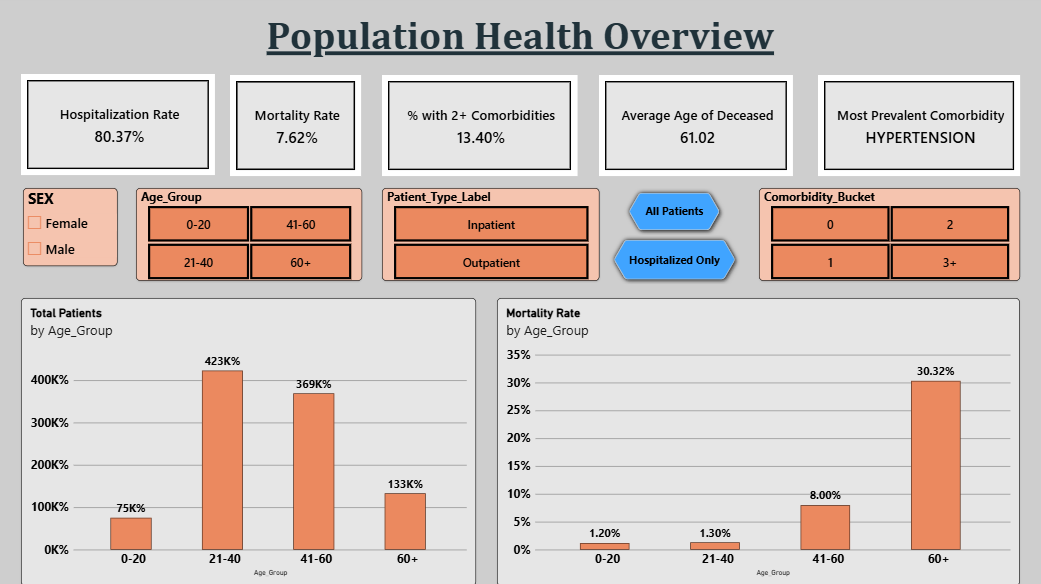

The dashboard page shown, as its layout file describes it:
{"tool":"powerbi","page":{"name":"Population Health Overview","canvas":[1920,1080],"ordinal":0},"visuals":[{"type":"textbox","box":[403.3,23.3,1114.2,85.5],"z":0},{"type":"cardVisual","fields":{"Data":["Measures (2).Hospitalization_Rate_Pct"]},"box":[46.7,136.7,355,185],"z":1000},{"type":"cardVisual","fields":{"Data":["Measures (2).Mortality Rate"]},"box":[429.2,139.2,240,185],"z":2000},{"type":"cardVisual","fields":{"Data":["Measures (2).Patients with 2+ Comorbidities"]},"box":[706.7,139.2,357.5,185],"z":3000},{"type":"cardVisual","fields":{"Data":["Measures (2).Average Age of Deceased"]},"box":[1104.2,139.2,355,185],"z":4000},{"type":"cardVisual","fields":{"Data":["Comorbidity_Long.Most Prevalent Comorbidity"]},"box":[1504.2,139.2,370,185],"z":5000},{"type":"clusteredColumnChart","fields":{"Category":["Covid_Patients.Age_Group"],"Y":["Measures (2).Total Patients"]},"box":[46.7,546.7,833.3,526.7],"z":6000},{"type":"clusteredColumnChart","fields":{"Category":["Covid_Patients.Age_Group"],"Y":["Measures (2).Mortality Rate"]},"box":[916.7,546.7,956.7,526.7],"z":7000},{"type":"slicer","fields":{"Values":["Covid_Patients.SEX"]},"box":[50,346.7,173.3,143.3],"z":8000},{"type":"slicer","fields":{"Values":["Covid_Patients.Age_Group"]},"box":[256,346,414,170],"z":9000},{"type":"slicer","fields":{"Values":["Covid_Patients.Patient_Type_Label"]},"box":[706,346,398,170],"z":10000},{"type":"slicer","fields":{"Values":["Covid_Patients.Comorbidity_Bucket"]},"box":[1396,346,478,170],"z":11000},{"type":"actionButton","box":[1150,346,184,86],"z":12000},{"type":"actionButton","box":[1122,432,240,90],"z":13000}]}

Visuals, with their boxes in screenshot pixels (x1, y1, x2, y2), scaled from the page's 1920x1080 canvas onto the 1041x584 screenshot:
textbox: x1=219 y1=13 x2=823 y2=59
cardVisual - Measures (2).Hospitalization_Rate_Pct: x1=25 y1=74 x2=218 y2=174
cardVisual - Measures (2).Mortality Rate: x1=233 y1=75 x2=363 y2=175
cardVisual - Measures (2).Patients with 2+ Comorbidities: x1=383 y1=75 x2=577 y2=175
cardVisual - Measures (2).Average Age of Deceased: x1=599 y1=75 x2=791 y2=175
cardVisual - Comorbidity_Long.Most Prevalent Comorbidity: x1=816 y1=75 x2=1016 y2=175
clusteredColumnChart - Covid_Patients.Age_Group x Measures (2).Total Patients: x1=25 y1=296 x2=477 y2=580
clusteredColumnChart - Covid_Patients.Age_Group x Measures (2).Mortality Rate: x1=497 y1=296 x2=1016 y2=580
slicer - Covid_Patients.SEX: x1=27 y1=187 x2=121 y2=265
slicer - Covid_Patients.Age_Group: x1=139 y1=187 x2=363 y2=279
slicer - Covid_Patients.Patient_Type_Label: x1=383 y1=187 x2=599 y2=279
slicer - Covid_Patients.Comorbidity_Bucket: x1=757 y1=187 x2=1016 y2=279
actionButton: x1=624 y1=187 x2=723 y2=234
actionButton: x1=608 y1=234 x2=738 y2=282
